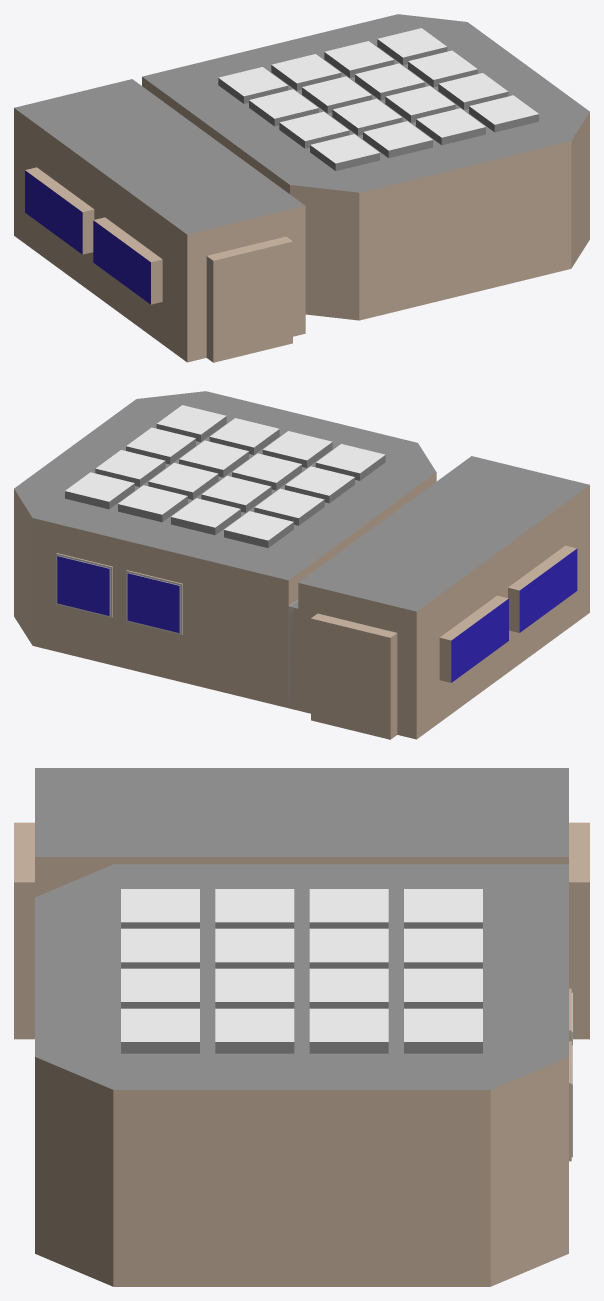
File: QuirofanoBASE.fbx
The picture shows the model from 3 angles, top to bottom: view 1: azimuth 30°, elevation 25°; view 2: azimuth 150°, elevation 25°; view 3: azimuth 270°, elevation 25°; orthographic projection. The views are drawn at different scales.
Parts seen in each view (by area): view 1: Quirofano BASE, Quirofano BASE.003; view 2: Quirofano BASE, Quirofano BASE.003; view 3: Quirofano BASE, Quirofano BASE.003.
Boxes of the visible parts, x1,y1,x2,y2 form: Quirofano BASE: (14, 77, 589, 362); Quirofano BASE.003: (142, 14, 589, 192); Quirofano BASE: (14, 456, 589, 739); Quirofano BASE.003: (14, 391, 436, 580); Quirofano BASE: (14, 768, 589, 1286); Quirofano BASE.003: (35, 864, 568, 1089).
Size of the model in its own units: 1116 by 328 by 821.
